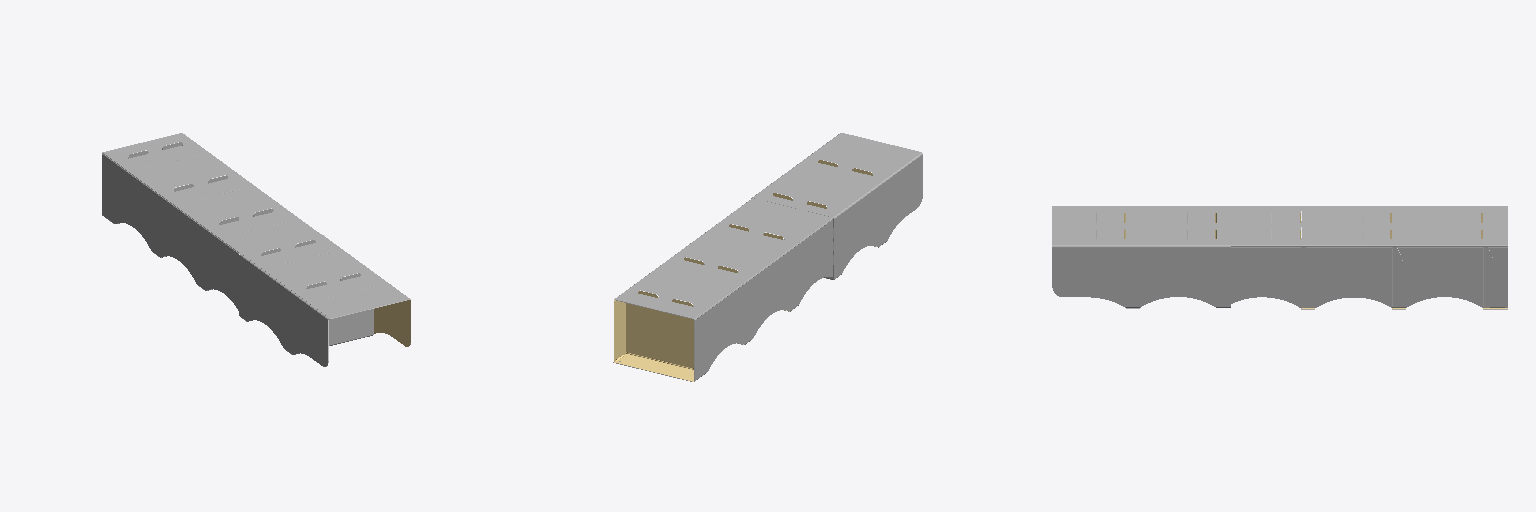
The model's file is ESTANTERIA.obj.
The picture shows the model from 3 angles: view 1: azimuth 30°, elevation 25°; view 2: azimuth 150°, elevation 25°; view 3: azimuth 270°, elevation 25°; orthographic projection.
Visible parts, largest first — view 1: Mesh130, Mesh151, Mesh16, Mesh49, Mesh61, Mesh2; view 2: Mesh130, Mesh151, Mesh16, Mesh49, Mesh173, Mesh167, Mesh104; view 3: Mesh103, Mesh, Mesh130, Mesh16.
Boxes of the visible parts, x1=… form: Mesh130: x1=102, y1=133, x2=319, y2=253; Mesh151: x1=102, y1=155, x2=238, y2=310; Mesh16: x1=241, y1=234, x2=408, y2=318; Mesh49: x1=239, y1=255, x2=327, y2=366; Mesh61: x1=297, y1=273, x2=372, y2=353; Mesh2: x1=374, y1=300, x2=410, y2=346; Mesh130: x1=614, y1=198, x2=832, y2=318; Mesh151: x1=695, y1=220, x2=832, y2=380; Mesh16: x1=753, y1=133, x2=920, y2=216; Mesh49: x1=834, y1=154, x2=922, y2=279; Mesh173: x1=626, y1=291, x2=693, y2=368; Mesh167: x1=614, y1=354, x2=693, y2=381; Mesh104: x1=614, y1=300, x2=626, y2=361; Mesh103: x1=1231, y1=247, x2=1507, y2=307; Mesh: x1=1052, y1=247, x2=1230, y2=307; Mesh130: x1=1231, y1=206, x2=1507, y2=245; Mesh16: x1=1052, y1=206, x2=1230, y2=245.
Bounding box in the file's own units: 411 × 317 × 1954.